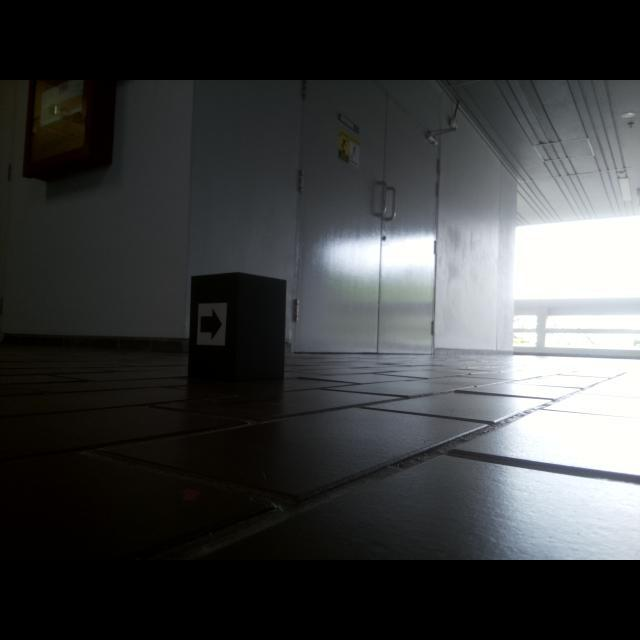RIGHT: (200, 307, 223, 341)
